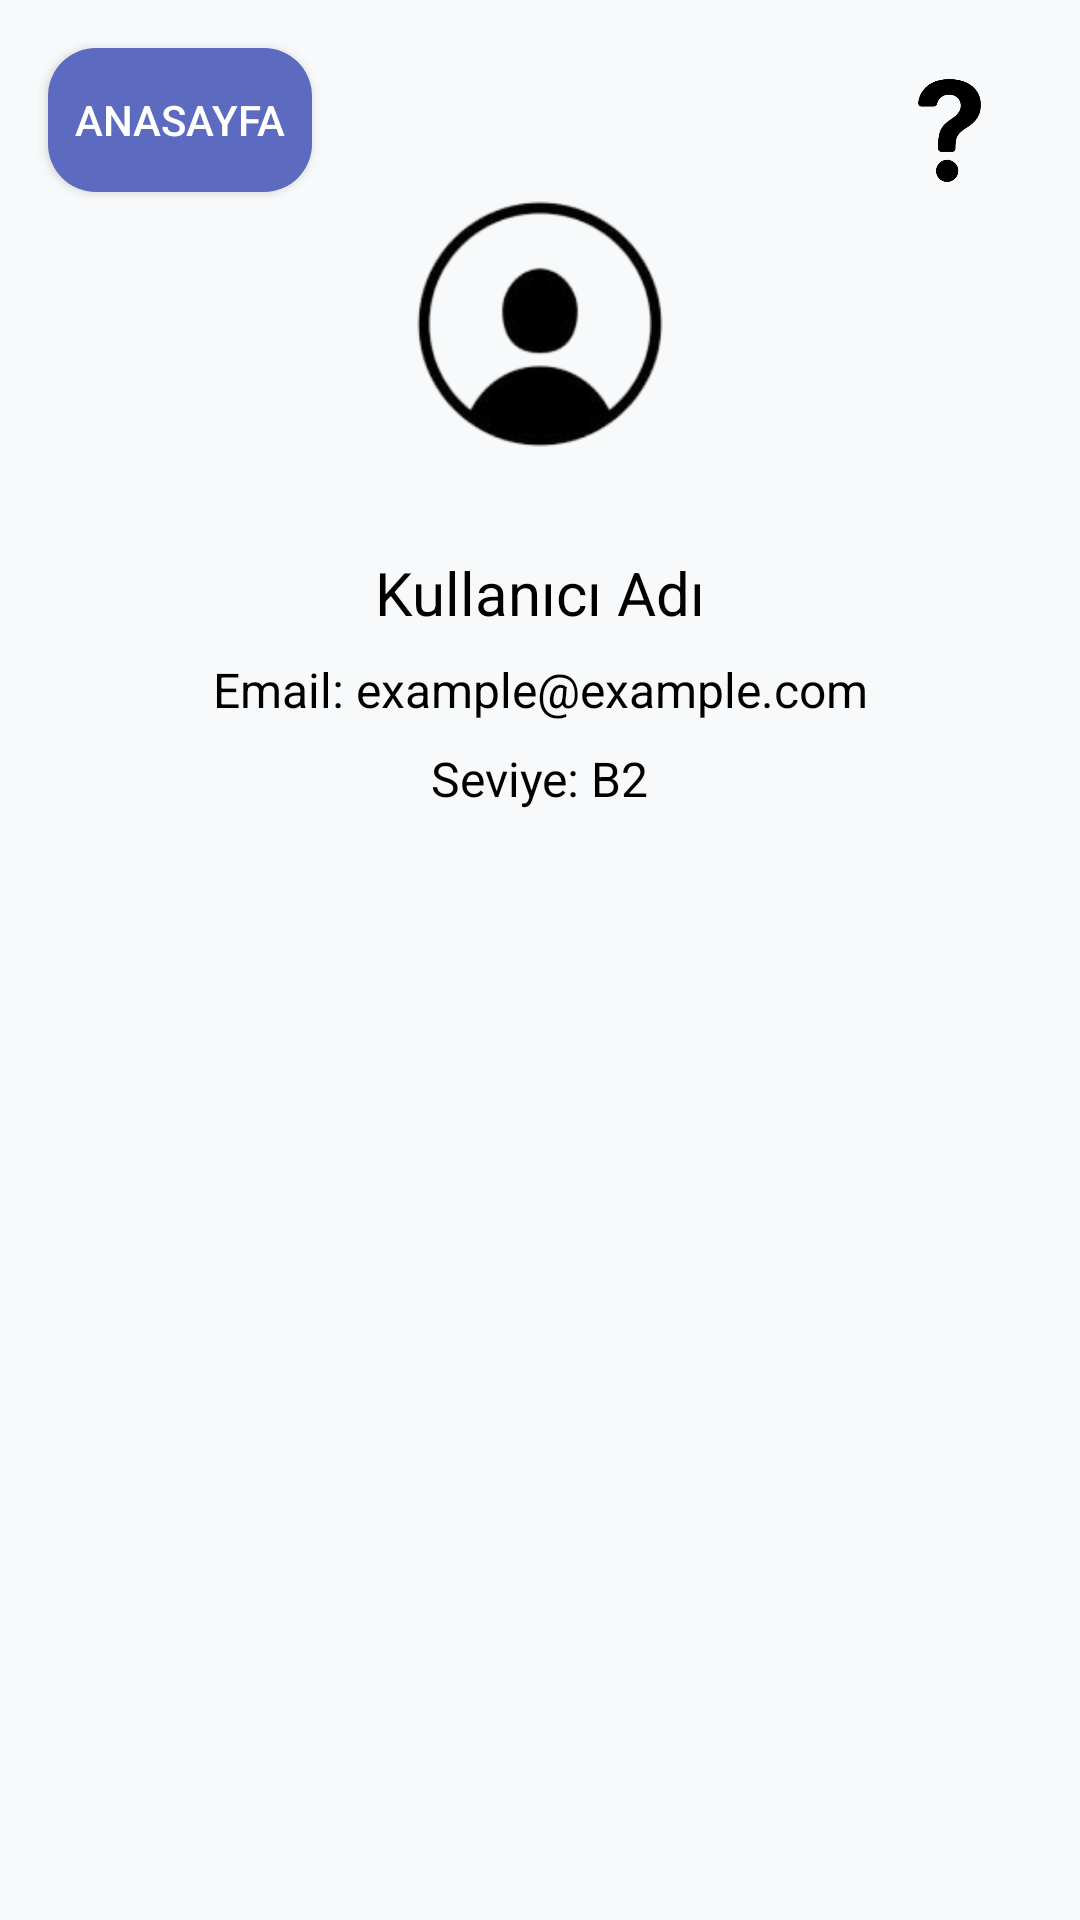

Icon click points for this 1080px×1920px phone screenshot, format (x=x, y=y):
Profile Image: (x=540, y=324)
